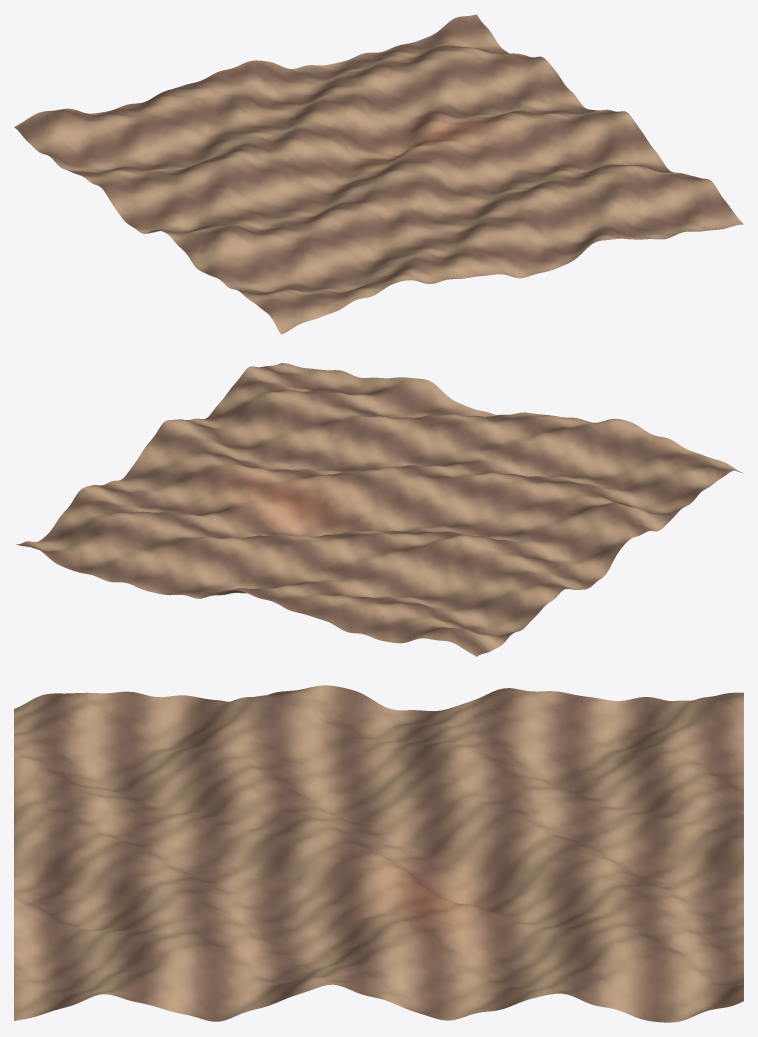
The model's file is jupiter_landscape.glb.
3 renders of one model, top to bottom at view 1: azimuth 30°, elevation 25°; view 2: azimuth 150°, elevation 25°; view 3: azimuth 270°, elevation 25°, orthographic. The views are drawn at different scales.
Visible parts, largest first — view 1: Jupiter Landscape; view 2: Jupiter Landscape; view 3: Jupiter Landscape.
Part boxes in pixels (x1,y1,x2,y2): Jupiter Landscape: (14, 14, 743, 334); Jupiter Landscape: (16, 363, 743, 656); Jupiter Landscape: (14, 685, 743, 1022).
Size of the model in its own units: 760 by 56.44 by 760.
Materials: 1 (1 with a texture image).
